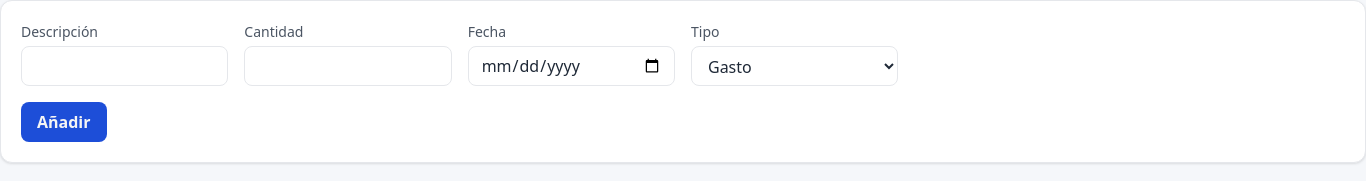
Test: TransactionForm › muestra un error si se envía vacío
Click the button "Añadir": (64, 122) [21, 102, 106, 142]
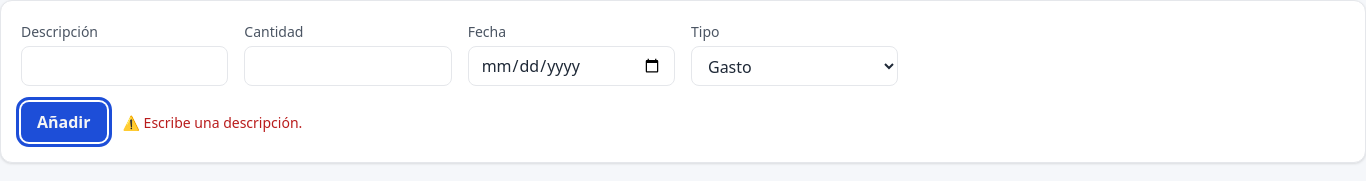
Now the message "⚠️ Escribe una descripción." is shown, box [122, 112, 302, 132]
Now the message shows "Escribe una descripción", box [144, 112, 302, 132]
